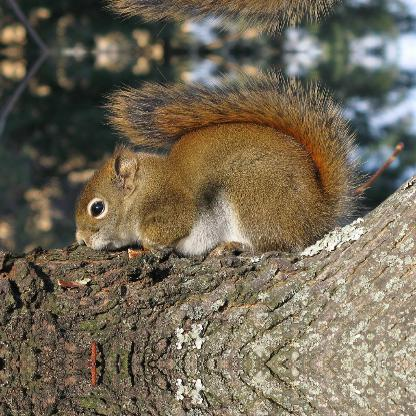Squirrel: (74, 60, 370, 258), (74, 0, 370, 44)
